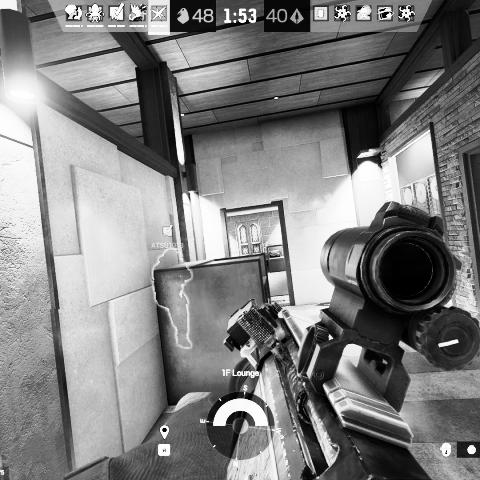Friend_label: (150, 224, 185, 250)
